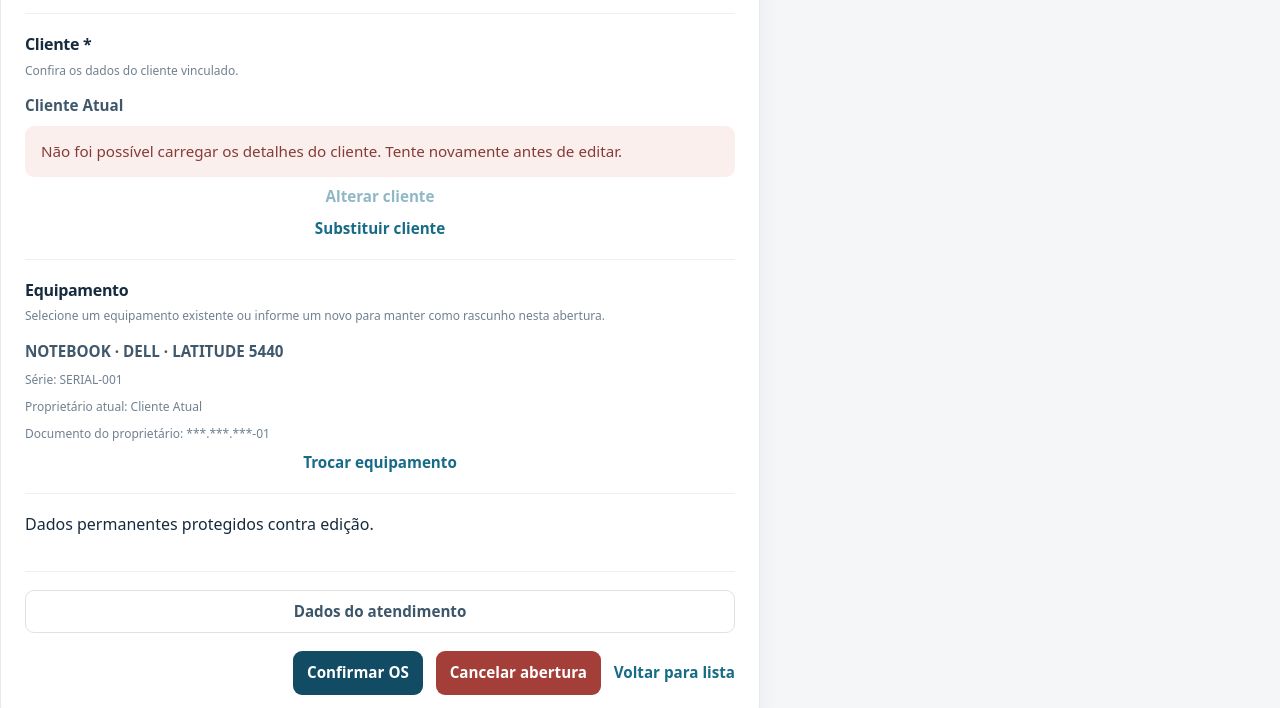
ServiceOrderOpeningPage › apresenta mensagem segura para 403 PERMISSION_DENIED
(page scrolled)
Step 1. Click the button "Confirmar OS" → (358, 673), box [293,651,423,695]
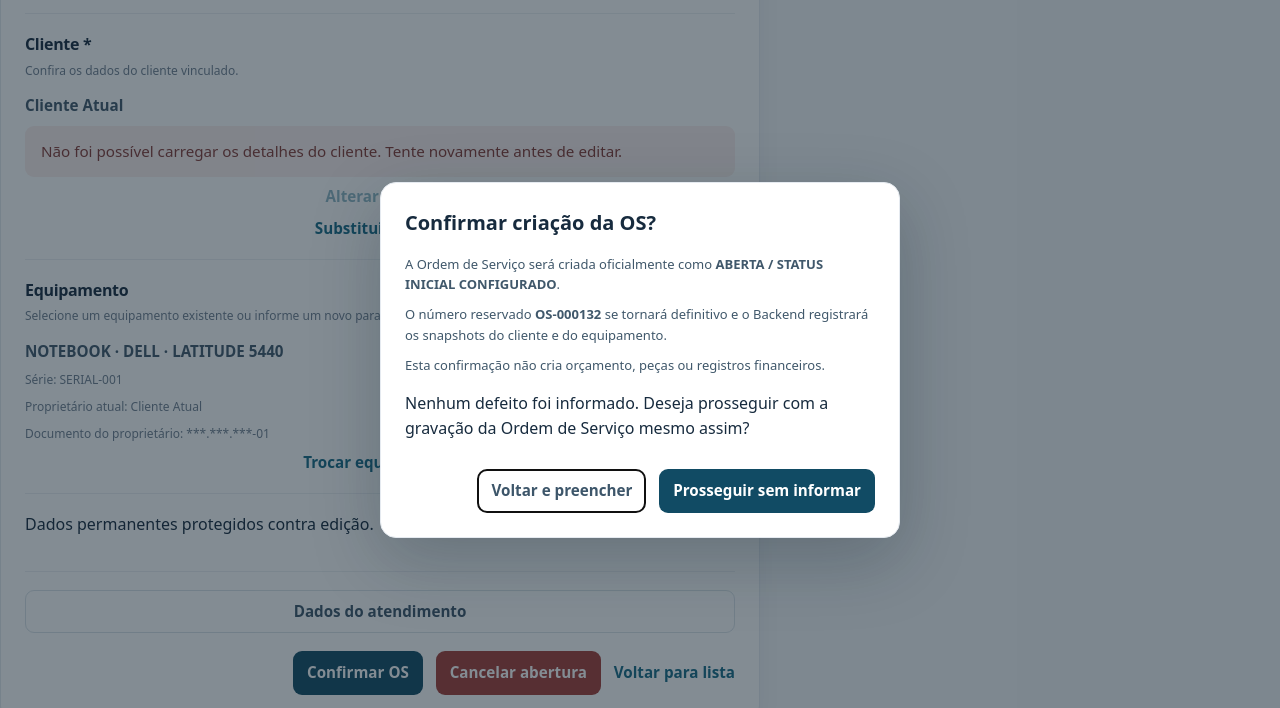
Step 2. Click the button "Prosseguir sem informar" → (767, 491), box [659,469,875,513]
(page scrolled)
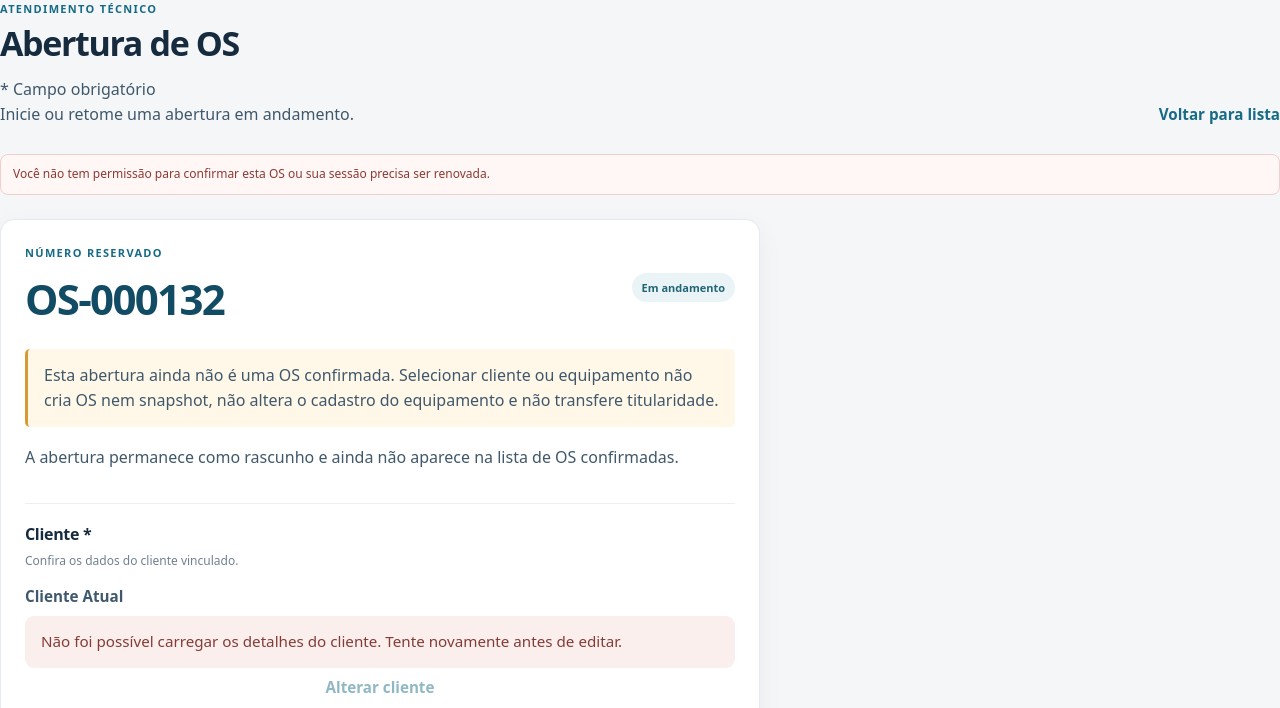
Now the message shows "Você não tem permissão para confirmar esta OS ou sua sessão precisa ser renovada.", box [13,165,490,182]
